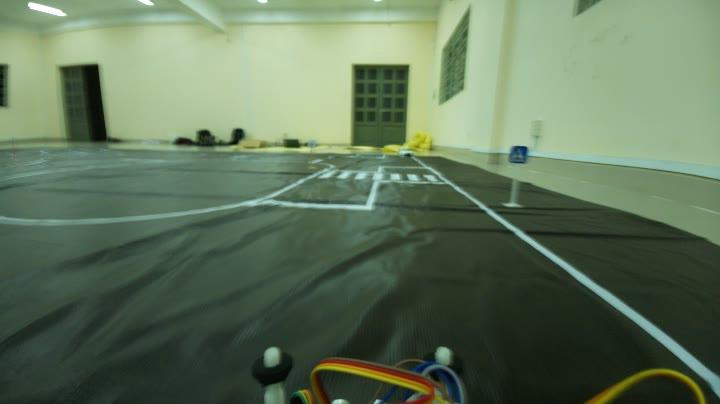crosswalk: (504, 142, 537, 170)
